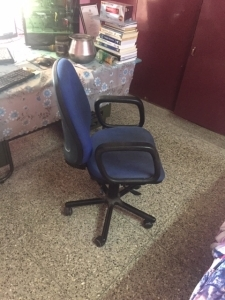chair: (51, 57, 165, 248)
